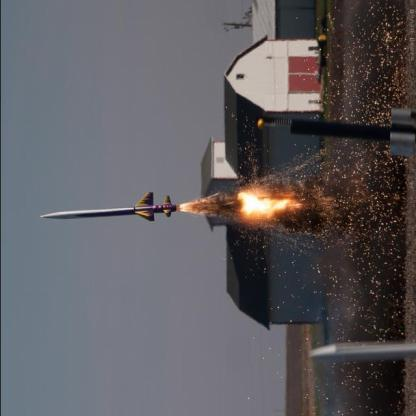MIL_TBM: (40, 193, 176, 226)
